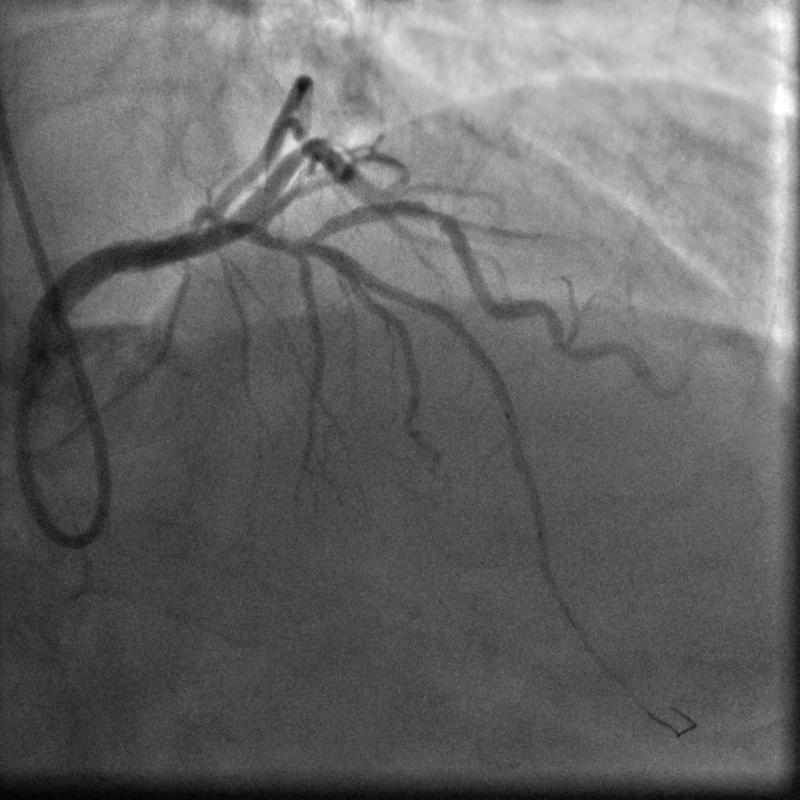Stenosis: (419, 195, 454, 231)
